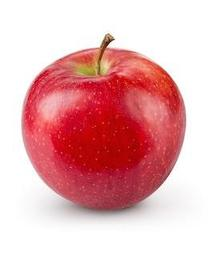apple: (20, 35, 185, 210)
